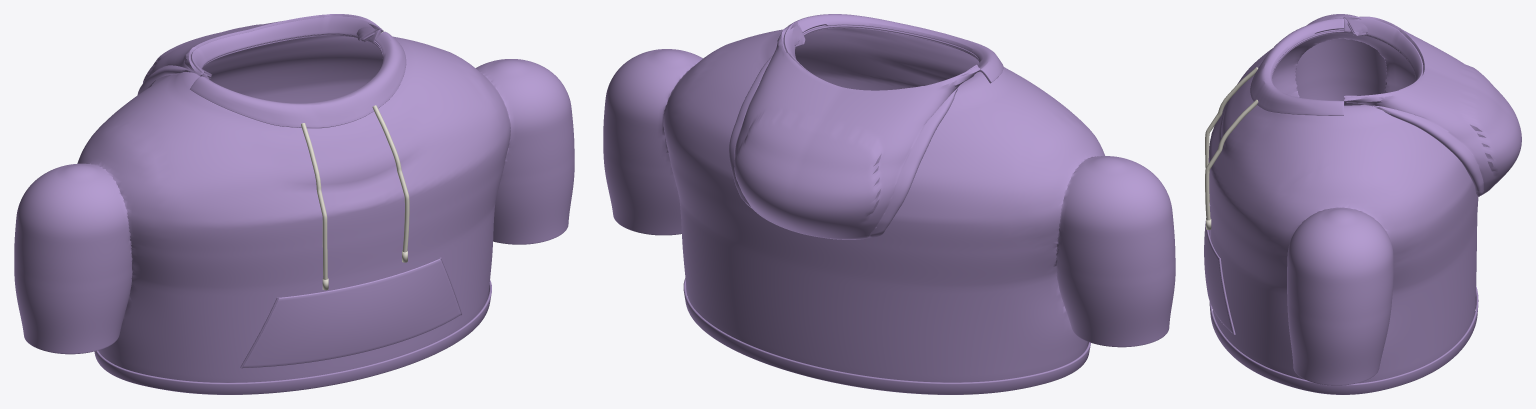
The model's file is Masculine-sweatshirt-top.glb.
The picture shows the model from 3 angles, left to right: view 1: azimuth 30°, elevation 25°; view 2: azimuth 150°, elevation 25°; view 3: azimuth 270°, elevation 25°; orthographic projection. The views are drawn at different scales.
Visible parts, largest first — view 1: Clothing / joined sweatshirt186, Hoodie / kangaroo pocket, Hoodie / soft front fold188, Hoodie / ribbed hem, Hoodie / seated rear fold187, Hoodie / resting hood, Hoodie / drawcord -1 export, Hoodie / drawcord 1 export; view 2: Clothing / joined sweatshirt186, Hoodie / resting hood, Hoodie / ribbed hem, Hoodie / soft front fold188; view 3: Clothing / joined sweatshirt186, Hoodie / resting hood, Hoodie / soft front fold188, Hoodie / ribbed hem, Hoodie / seated rear fold187, Hoodie / kangaroo pocket, Hoodie / drawcord 1 export, Hoodie / drawcord -1 export.
Boxes of the visible parts, left/top/right/bottom form: Clothing / joined sweatshirt186: left=14, top=34, right=574, bottom=382; Hoodie / kangaroo pocket: left=242, top=258, right=461, bottom=367; Hoodie / soft front fold188: left=190, top=31, right=406, bottom=128; Hoodie / ribbed hem: left=94, top=280, right=491, bottom=394; Hoodie / seated rear fold187: left=191, top=16, right=381, bottom=78; Hoodie / resting hood: left=137, top=14, right=383, bottom=94; Hoodie / drawcord -1 export: left=301, top=123, right=327, bottom=279; Hoodie / drawcord 1 export: left=372, top=105, right=409, bottom=252; Clothing / joined sweatshirt186: left=603, top=25, right=1175, bottom=382; Hoodie / resting hood: left=729, top=21, right=980, bottom=239; Hoodie / ribbed hem: left=683, top=278, right=1090, bottom=394; Hoodie / soft front fold188: left=788, top=14, right=1003, bottom=83; Clothing / joined sweatshirt186: left=1208, top=14, right=1478, bottom=385; Hoodie / resting hood: left=1344, top=16, right=1521, bottom=196; Hoodie / soft front fold188: left=1250, top=18, right=1343, bottom=115; Hoodie / ribbed hem: left=1209, top=286, right=1478, bottom=394; Hoodie / seated rear fold187: left=1344, top=16, right=1423, bottom=105; Hoodie / kangaroo pocket: left=1204, top=202, right=1232, bottom=333; Hoodie / drawcord 1 export: left=1205, top=99, right=1258, bottom=220; Hoodie / drawcord -1 export: left=1205, top=67, right=1258, bottom=168.
Size of the model in its own units: 1.01 by 0.4903 by 0.5506.
